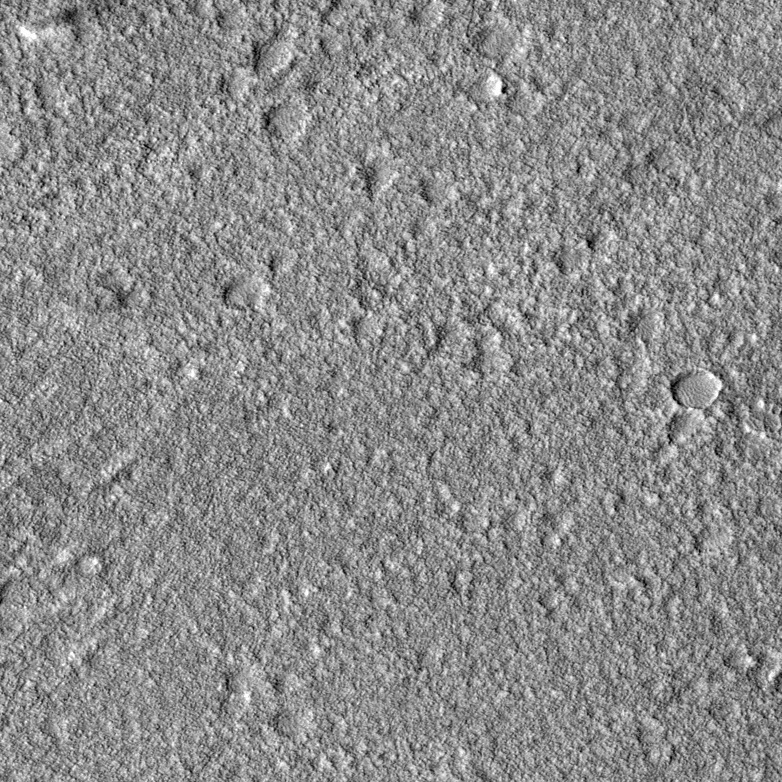dust_devil: (17, 4, 86, 48)
